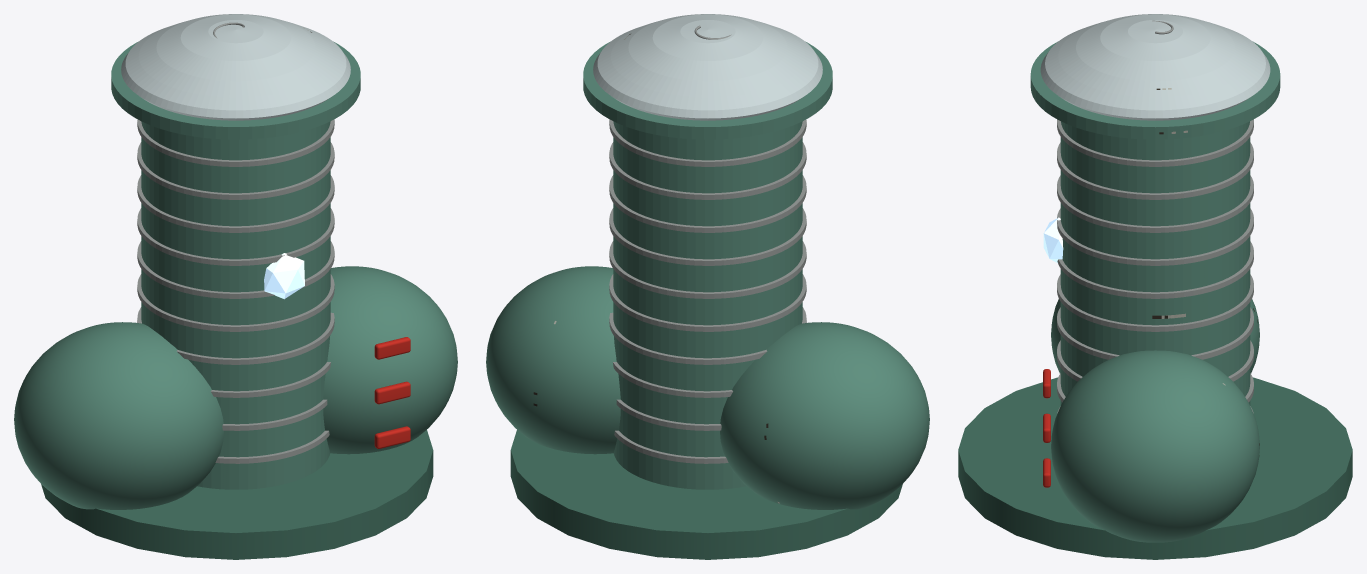
3 renders of one model, left to right at view 1: azimuth 30°, elevation 25°; view 2: azimuth 150°, elevation 25°; view 3: azimuth 270°, elevation 25°, orthographic.
Parts seen in each view (by area): view 1: Segmented hollow launch tower, Rounded side chamber, Foundation drum, Mushroom cap shutter, Rounded side chamber.001, Crown fixed support rim, Tower exterior band.008, Tower exterior band.009, Tower exterior band.005, Tower exterior band.007, Tower exterior band.010, Tower exterior band.006 (+8 smaller); view 2: Segmented hollow launch tower, Rounded side chamber, Foundation drum, Rounded side chamber.001, Mushroom cap shutter, Crown fixed support rim, Tower exterior band.007, Tower exterior band.008, Tower exterior band.009, Tower exterior band.005, Tower exterior band.006, Tower exterior band.010 (+4 smaller); view 3: Segmented hollow launch tower, Rounded side chamber.001, Foundation drum, Mushroom cap shutter, Crown fixed support rim, Tower exterior band.009, Tower exterior band.005, Tower exterior band.008, Tower exterior band.007, Tower exterior band.006, Tower exterior band.010, Tower exterior band.004 (+3 smaller).
Boxes of the visible parts, x1=… form: Segmented hollow launch tower: x1=141, y1=121, x2=330, y2=489; Rounded side chamber: x1=14, y1=322, x2=223, y2=509; Foundation drum: x1=41, y1=430, x2=433, y2=559; Mushroom cap shutter: x1=121, y1=14, x2=350, y2=120; Rounded side chamber.001: x1=323, y1=266, x2=457, y2=454; Crown fixed support rim: x1=111, y1=41, x2=360, y2=139; Tower exterior band.008: x1=137, y1=175, x2=334, y2=232; Tower exterior band.009: x1=137, y1=142, x2=334, y2=199; Tower exterior band.005: x1=137, y1=274, x2=334, y2=331; Tower exterior band.007: x1=137, y1=208, x2=334, y2=265; Tower exterior band.010: x1=137, y1=119, x2=334, y2=166; Tower exterior band.006: x1=137, y1=241, x2=334, y2=298; Segmented hollow launch tower: x1=613, y1=121, x2=802, y2=489; Rounded side chamber: x1=720, y1=322, x2=929, y2=509; Foundation drum: x1=510, y1=430, x2=902, y2=559; Rounded side chamber.001: x1=486, y1=266, x2=620, y2=454; Mushroom cap shutter: x1=593, y1=14, x2=822, y2=120; Crown fixed support rim: x1=583, y1=41, x2=832, y2=139; Tower exterior band.007: x1=609, y1=208, x2=806, y2=265; Tower exterior band.008: x1=609, y1=175, x2=806, y2=232; Tower exterior band.009: x1=609, y1=142, x2=806, y2=199; Tower exterior band.005: x1=609, y1=274, x2=806, y2=331; Tower exterior band.006: x1=609, y1=241, x2=806, y2=298; Tower exterior band.010: x1=609, y1=119, x2=806, y2=166; Segmented hollow launch tower: x1=1060, y1=121, x2=1250, y2=405; Rounded side chamber.001: x1=1051, y1=350, x2=1259, y2=542; Foundation drum: x1=958, y1=377, x2=1352, y2=559; Mushroom cap shutter: x1=1040, y1=14, x2=1270, y2=120; Crown fixed support rim: x1=1030, y1=41, x2=1280, y2=139; Tower exterior band.009: x1=1057, y1=142, x2=1253, y2=199; Tower exterior band.005: x1=1057, y1=274, x2=1253, y2=331; Tower exterior band.008: x1=1057, y1=175, x2=1253, y2=232; Tower exterior band.007: x1=1057, y1=208, x2=1253, y2=265; Tower exterior band.006: x1=1057, y1=241, x2=1253, y2=298; Tower exterior band.010: x1=1057, y1=119, x2=1253, y2=166; Tower exterior band.004: x1=1057, y1=307, x2=1253, y2=359.
Bounding box in the file's own units: 2.44 × 2.51 × 2.
